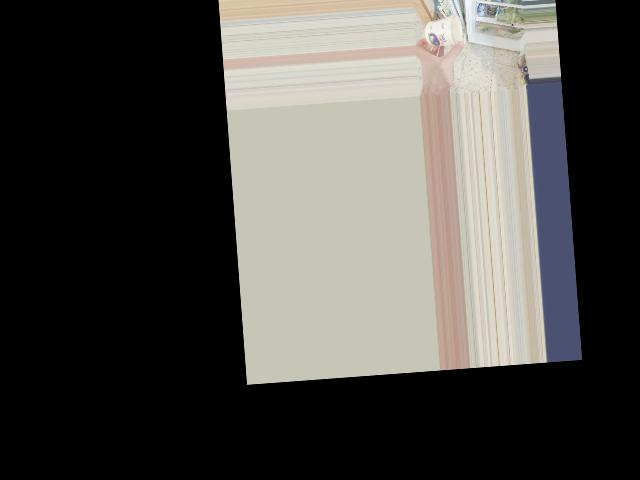cotage: (422, 11, 466, 53)
